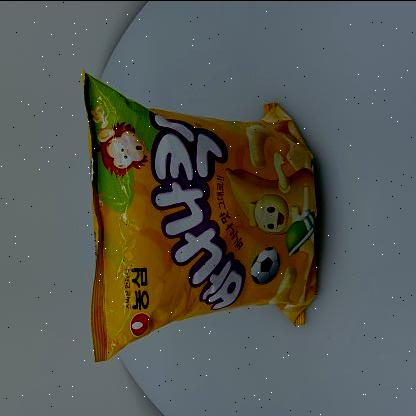Others: (78, 57, 326, 370)
